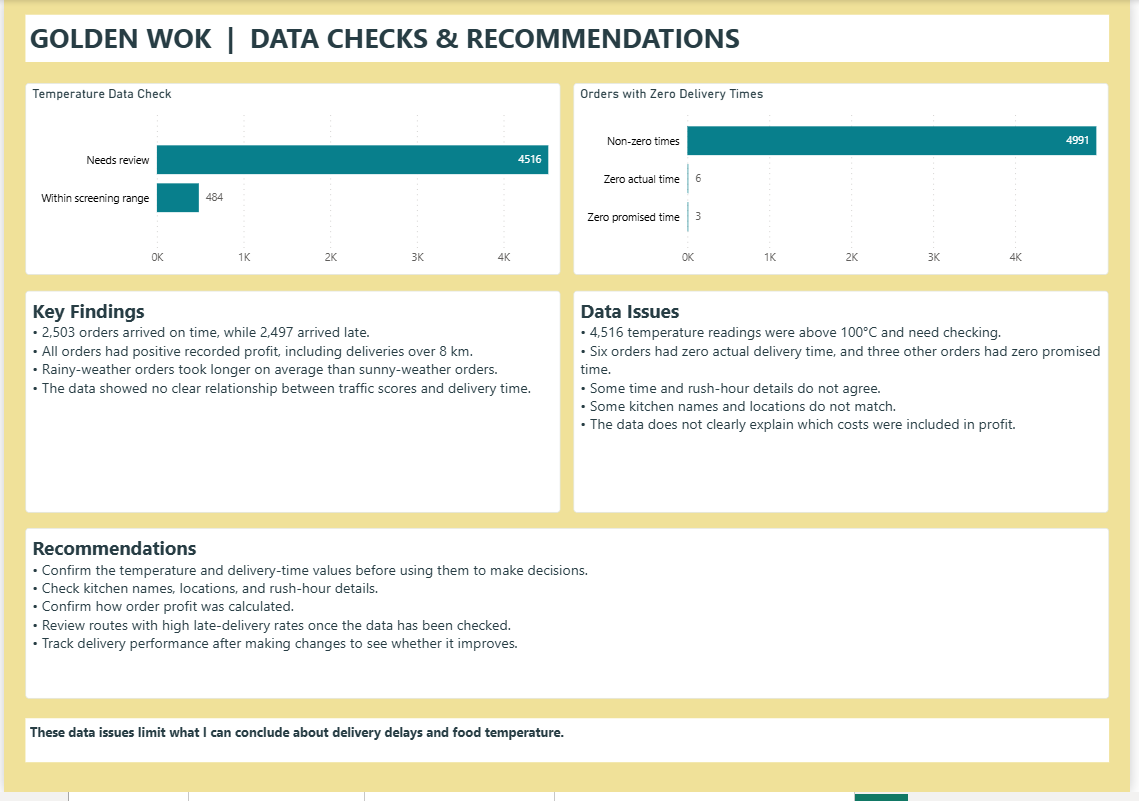

The dashboard page shown, as its layout file describes it:
{"tool":"powerbi","page":{"name":"Data Checks & Recommendations","canvas":[1280,900],"ordinal":3},"visuals":[{"type":"clusteredBarChart","title":"Temperature Data Check","fields":{"Category":["Temperature_Quality_Summary.Temperature_Check"],"Y":["Sum(Temperature_Quality_Summary.Order_Count)"]},"box":[24,94,608,218],"z":0},{"type":"clusteredBarChart","title":"Orders with Zero Delivery Times","fields":{"Category":["Delivery_Time_Quality_Summary.Delivery_Time_Check"],"Y":["Sum(Delivery_Time_Quality_Summary.Order_Count)"]},"box":[648,94,608,218],"z":1000},{"type":"textbox","box":[24,16,1232,54],"z":2000},{"type":"textbox","box":[24,330,608,252],"z":5000},{"type":"textbox","box":[648,330,608,252],"z":6000},{"type":"textbox","box":[24,600,1232,194],"z":7000},{"type":"textbox","box":[24,816,1232,50],"z":8000}]}

Visuals, with their boxes in screenshot pixels (x1, y1, x2, y2), scaled from the page's 1280x900 canvas onto the 1139x801 screenshot:
"Temperature Data Check" clusteredBarChart: (left=21, top=84, right=562, bottom=278)
"Orders with Zero Delivery Times" clusteredBarChart: (left=577, top=84, right=1118, bottom=278)
textbox: (left=21, top=14, right=1118, bottom=62)
textbox: (left=21, top=294, right=562, bottom=518)
textbox: (left=577, top=294, right=1118, bottom=518)
textbox: (left=21, top=534, right=1118, bottom=707)
textbox: (left=21, top=726, right=1118, bottom=771)
